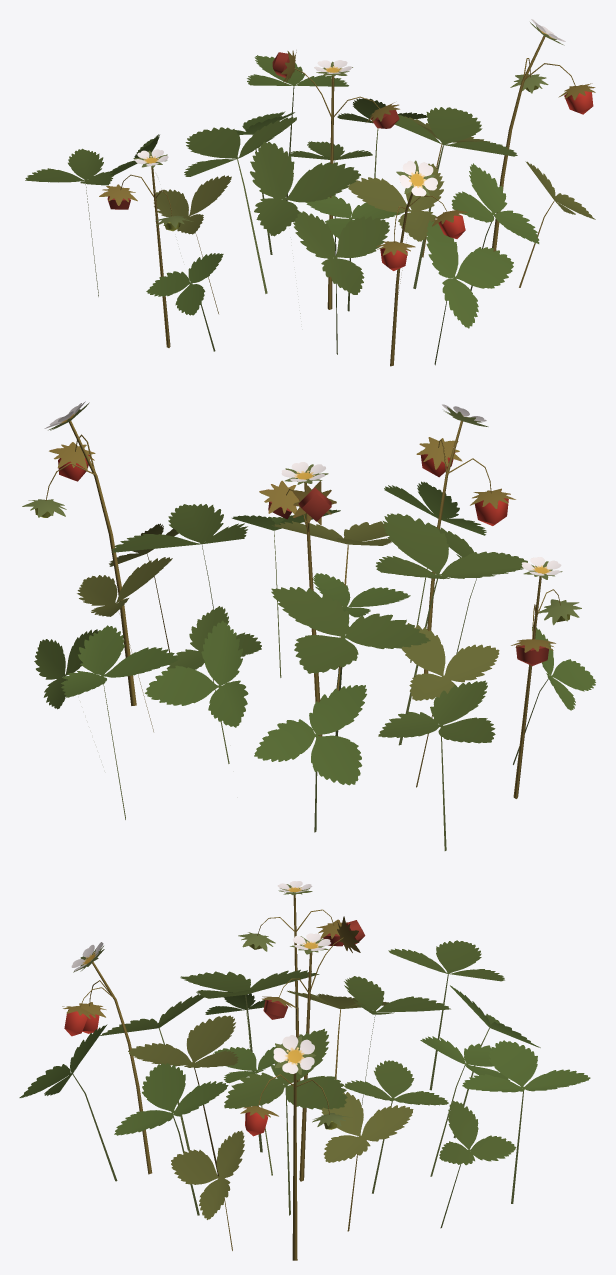
The model's file is Strawberry_Cluster_2.fbx.
3 renders of one model, top to bottom at view 1: azimuth 30°, elevation 25°; view 2: azimuth 150°, elevation 25°; view 3: azimuth 270°, elevation 25°, orthographic. The views are drawn at different scales.
Visible parts, largest first — view 1: Strawberry_Cluster_2; view 2: Strawberry_Cluster_2; view 3: Strawberry_Cluster_2.
Part boxes in pixels (x1,y1,x2,y2): Strawberry_Cluster_2: [25, 19, 595, 366]; Strawberry_Cluster_2: [22, 401, 595, 850]; Strawberry_Cluster_2: [19, 881, 590, 1260].
Size of the model in its own units: 124 by 61.34 by 128.
Materials: 1 (1 with a texture image).
